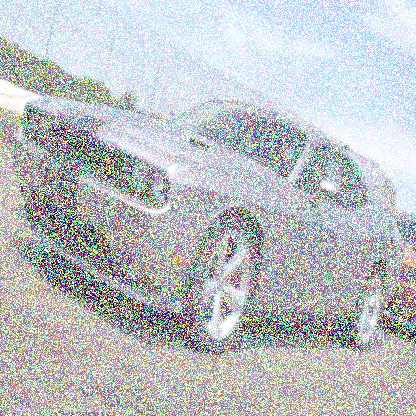Vehicle: (12, 96, 406, 359)
